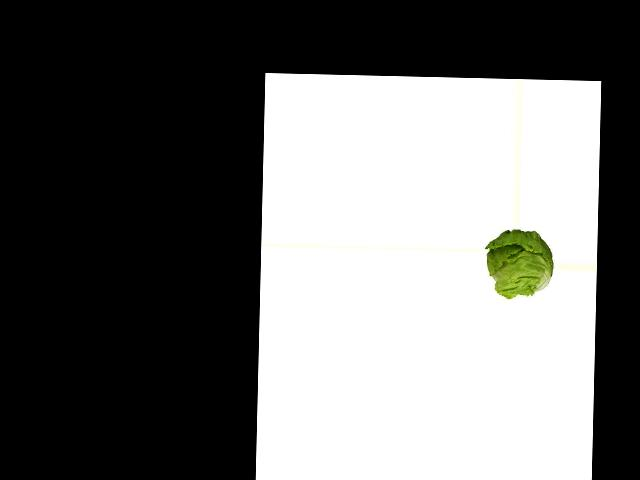lettuce: (485, 229, 556, 297)
